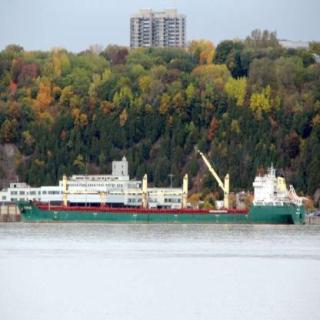Bulk Carrier: (4, 166, 311, 223)
